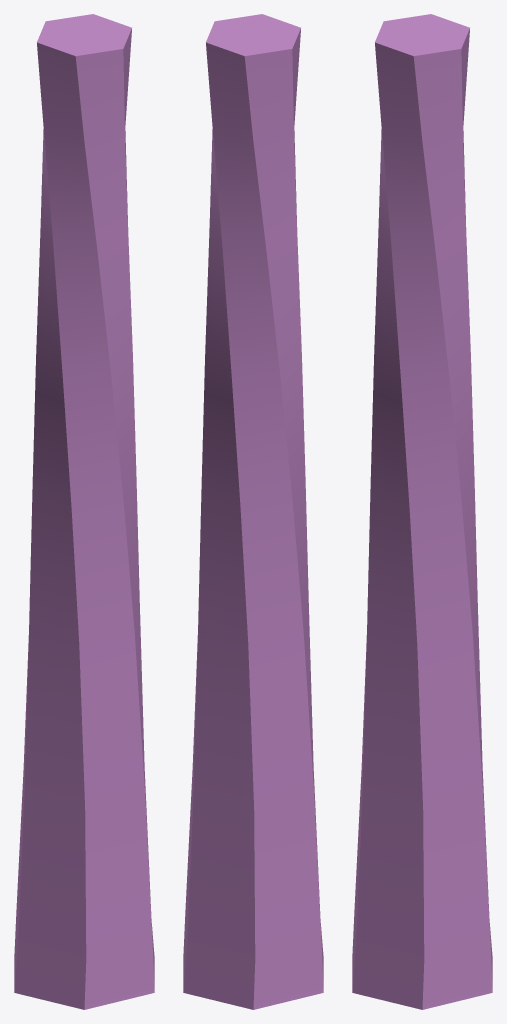
File: Tower3_Factory_COL.fbx
The picture shows the model from 3 angles, left to right: view 1: azimuth 30°, elevation 25°; view 2: azimuth 150°, elevation 25°; view 3: azimuth 270°, elevation 25°; orthographic projection.
Parts seen in each view (by area): view 1: Tower3_Factory_COL; view 2: Tower3_Factory_COL; view 3: Tower3_Factory_COL.
Boxes of the visible parts, x1,y1,x2,y2 form: Tower3_Factory_COL: (14, 14, 154, 1009); Tower3_Factory_COL: (183, 14, 323, 1009); Tower3_Factory_COL: (352, 14, 492, 1009).
Bounding box in the file's own units: 875 × 5601 × 758.
